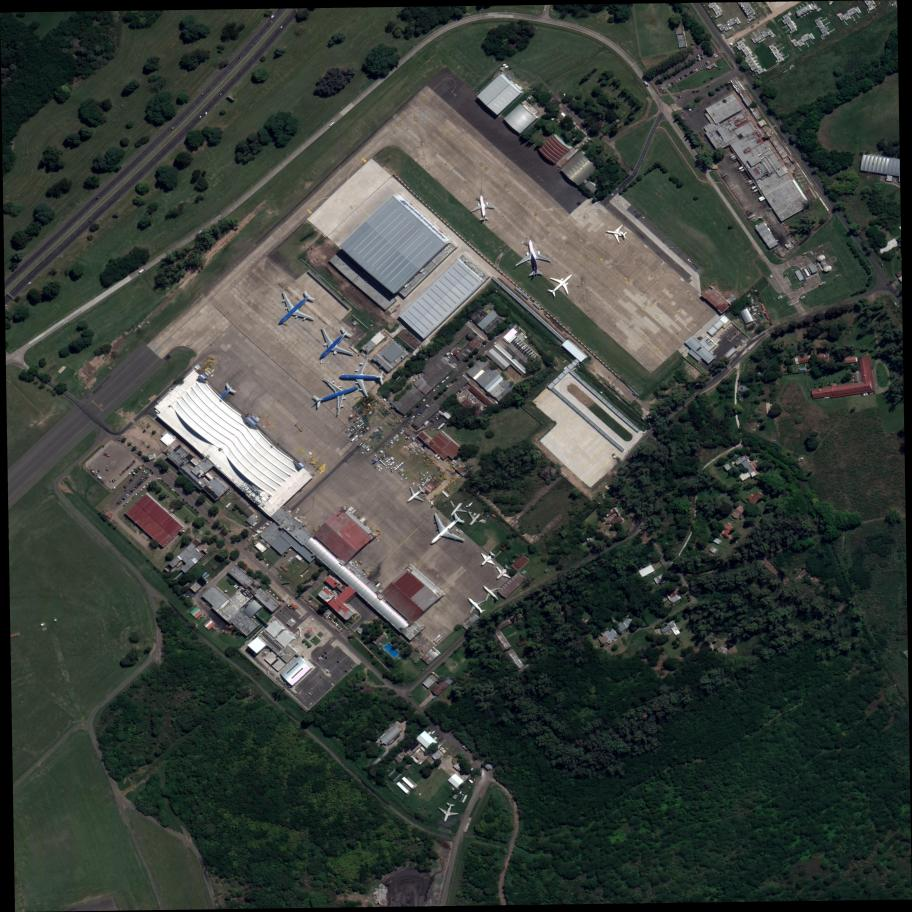large-vehicle: (751, 185, 764, 194), (738, 165, 750, 174), (750, 183, 762, 191), (737, 163, 749, 171), (767, 204, 778, 212), (746, 177, 757, 184), (748, 179, 758, 186), (731, 155, 741, 162), (729, 153, 739, 160), (728, 151, 738, 158), (138, 268, 146, 274), (748, 214, 755, 220), (103, 452, 111, 457), (107, 513, 113, 519), (750, 217, 757, 222), (210, 373, 215, 379), (329, 122, 335, 127), (211, 368, 215, 373)
plane: (262, 278, 327, 343), (414, 499, 477, 562), (303, 316, 363, 375), (307, 368, 365, 422), (193, 374, 245, 426), (338, 355, 387, 399), (509, 237, 553, 279), (541, 264, 580, 303), (399, 480, 430, 512), (476, 578, 506, 608), (461, 591, 490, 621), (468, 194, 497, 222), (490, 560, 517, 587), (473, 546, 500, 573), (433, 800, 461, 825), (604, 221, 630, 245)
small-vehicle: (644, 80, 650, 88), (197, 229, 203, 235), (324, 668, 330, 674), (463, 745, 469, 751), (265, 522, 271, 527), (270, 14, 275, 19), (95, 196, 100, 201), (446, 458, 451, 463), (441, 379, 446, 384), (410, 415, 415, 420), (713, 55, 719, 59), (147, 480, 152, 484), (171, 488, 176, 492), (278, 575, 282, 580), (190, 505, 195, 509), (188, 503, 192, 508), (136, 468, 140, 473), (659, 87, 664, 91), (657, 84, 662, 88), (655, 81, 660, 85), (686, 64, 691, 68), (757, 312, 762, 316), (752, 312, 757, 316), (425, 404, 430, 408), (718, 534, 723, 538), (473, 778, 477, 783), (436, 733, 440, 738), (445, 376, 450, 380), (134, 493, 138, 497), (136, 490, 140, 494), (145, 483, 149, 487), (169, 486, 173, 490), (123, 503, 127, 507), (182, 498, 186, 502), (289, 606, 293, 610), (308, 599, 312, 603), (313, 603, 317, 607), (185, 501, 189, 505), (308, 692, 312, 696), (331, 683, 335, 687), (294, 9, 298, 13), (279, 26, 283, 30), (196, 510, 200, 514), (194, 508, 198, 512), (89, 219, 93, 223), (28, 281, 32, 285), (117, 438, 121, 442), (158, 467, 162, 471), (130, 478, 134, 482), (149, 468, 153, 472), (125, 484, 129, 488), (137, 467, 141, 471), (134, 470, 138, 474), (132, 473, 136, 477), (133, 467, 137, 471), (130, 469, 134, 473), (128, 472, 132, 476), (269, 21, 273, 25), (259, 32, 263, 36), (706, 85, 710, 89), (683, 66, 687, 70), (679, 68, 683, 72), (658, 76, 662, 80), (684, 74, 688, 78), (707, 61, 711, 65), (663, 77, 667, 81), (691, 130, 695, 134), (690, 61, 694, 65), (760, 314, 764, 318), (762, 310, 766, 314), (698, 131, 702, 135), (688, 62, 692, 66), (238, 56, 242, 60), (334, 622, 338, 626), (338, 626, 342, 630), (341, 629, 345, 633), (326, 615, 330, 619), (324, 656, 328, 660), (324, 651, 328, 655), (318, 657, 322, 661), (317, 658, 321, 662), (320, 675, 324, 679), (336, 660, 340, 664), (712, 53, 716, 57), (697, 54, 701, 58), (438, 738, 442, 742), (260, 527, 265, 530), (145, 475, 150, 478), (133, 472, 138, 475), (668, 83, 671, 88), (418, 411, 423, 414), (140, 488, 143, 492), (161, 479, 165, 482), (166, 484, 170, 487), (174, 491, 178, 494), (131, 496, 135, 499), (865, 392, 868, 396), (122, 498, 126, 501), (130, 490, 134, 493), (131, 489, 135, 492), (132, 487, 136, 490), (134, 486, 138, 489), (177, 493, 180, 497), (179, 496, 183, 499), (315, 604, 318, 608), (288, 605, 291, 609), (280, 609, 284, 612), (282, 611, 286, 614), (286, 604, 290, 607), (255, 569, 259, 572), (263, 526, 266, 530), (228, 530, 232, 533), (222, 524, 225, 528), (208, 521, 211, 525), (205, 519, 209, 522), (117, 502, 121, 505), (102, 445, 106, 448), (138, 454, 142, 457), (121, 471, 124, 475), (109, 479, 112, 483), (113, 478, 116, 482), (171, 126, 174, 130), (122, 469, 125, 473), (141, 479, 145, 482), (148, 474, 152, 477), (126, 483, 130, 486), (127, 482, 131, 485), (147, 467, 151, 470), (143, 478, 147, 481), (123, 486, 127, 489), (139, 466, 143, 469), (131, 462, 135, 465), (250, 44, 253, 48), (662, 90, 665, 94), (695, 90, 699, 93), (690, 129, 694, 132), (671, 82, 674, 86), (679, 77, 682, 81), (686, 73, 689, 77), (688, 72, 691, 76), (691, 71, 694, 75), (694, 69, 697, 73), (696, 68, 699, 72), (697, 67, 700, 71), (698, 66, 701, 70), (700, 65, 703, 69), (702, 64, 705, 68), (704, 63, 707, 67), (761, 307, 764, 311), (757, 295, 761, 298), (863, 392, 866, 396), (769, 323, 773, 326), (754, 314, 758, 317), (701, 134, 704, 138), (692, 60, 695, 64), (335, 624, 339, 627), (329, 617, 332, 621), (331, 620, 335, 623), (333, 621, 336, 625), (337, 625, 340, 629), (339, 628, 343, 631), (320, 360, 323, 364), (326, 361, 330, 364), (322, 654, 326, 657), (320, 656, 323, 660), (316, 660, 320, 663), (350, 666, 354, 669), (344, 670, 348, 673), (694, 60, 697, 64), (696, 46, 699, 50), (699, 53, 702, 57), (696, 55, 699, 59), (700, 57, 703, 61), (734, 345, 738, 348), (521, 241, 524, 245), (470, 765, 473, 769), (614, 638, 617, 642), (428, 728, 431, 732), (679, 618, 684, 620), (143, 486, 146, 489), (126, 501, 129, 504), (164, 482, 167, 485), (316, 606, 319, 609), (310, 691, 313, 694), (266, 563, 269, 566), (135, 452, 138, 455), (166, 470, 169, 473), (113, 486, 116, 489), (119, 473, 122, 476), (129, 480, 132, 483), (143, 470, 146, 473), (124, 468, 127, 471), (133, 460, 136, 463), (130, 463, 133, 466), (127, 466, 130, 469), (126, 467, 129, 470), (678, 96, 681, 99), (677, 95, 680, 98), (689, 72, 692, 75), (693, 70, 696, 73), (705, 62, 708, 65), (765, 316, 768, 319), (757, 309, 760, 312), (704, 138, 707, 141), (328, 617, 331, 620), (330, 619, 333, 622), (321, 655, 324, 658), (199, 116, 202, 119), (201, 93, 204, 96), (220, 93, 223, 96), (701, 53, 704, 56), (702, 56, 705, 59), (698, 58, 701, 61), (696, 59, 699, 62), (735, 541, 738, 544), (642, 216, 645, 219), (611, 193, 614, 196), (157, 478, 161, 480), (119, 501, 123, 503), (123, 497, 127, 499), (126, 494, 130, 496), (139, 481, 143, 483), (137, 484, 141, 486), (138, 483, 142, 485), (112, 479, 114, 483), (691, 91, 695, 93), (757, 297, 761, 299), (128, 493, 131, 495), (120, 500, 123, 502), (145, 471, 147, 474), (152, 471, 154, 474), (145, 477, 148, 479), (129, 464, 131, 467), (751, 289, 753, 292), (727, 339, 730, 341), (729, 338, 732, 340), (734, 333, 737, 335), (125, 496, 129, 497), (136, 486, 140, 487), (141, 476, 144, 477), (140, 478, 143, 479), (142, 464, 145, 465), (598, 201, 601, 202)
storage-tank: (824, 266, 832, 272), (817, 256, 826, 261)
